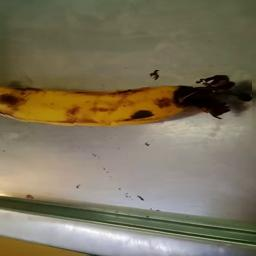Banana Semirotten: (2, 70, 252, 138)
